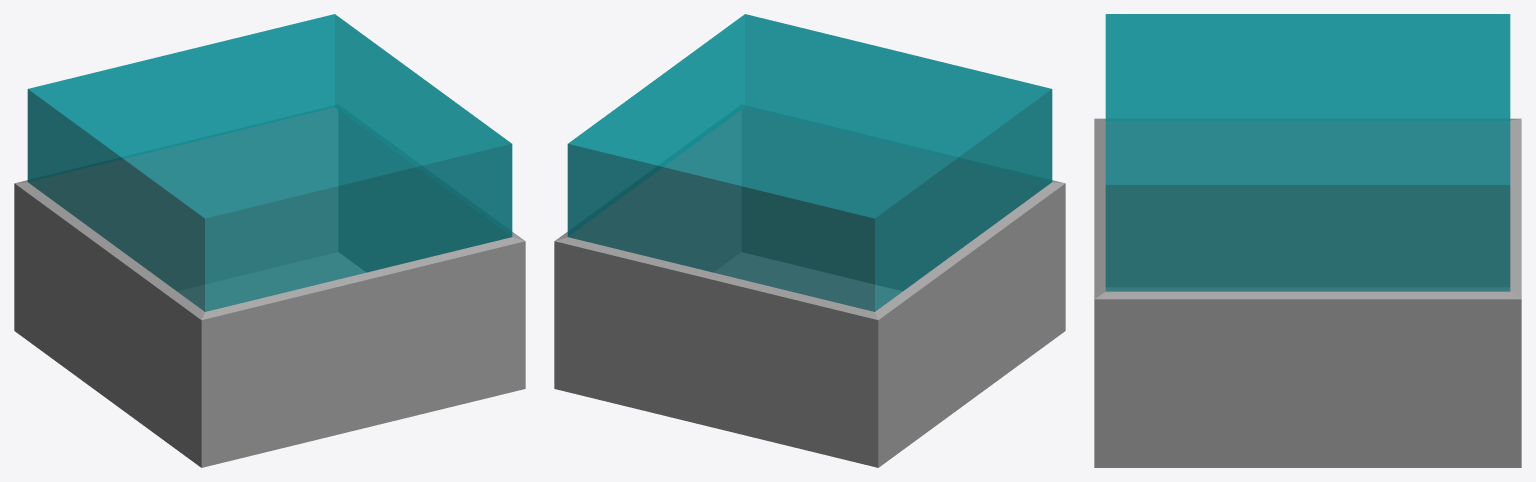
File: labdoos.fbx
3 renders of one model, left to right at view 1: azimuth 30°, elevation 25°; view 2: azimuth 150°, elevation 25°; view 3: azimuth 270°, elevation 25°, orthographic. The views are drawn at different scales.
Visible parts, largest first — view 1: pCube1; view 2: pCube1; view 3: pCube1.
Boxes of the visible parts, <box> form: pCube1: <box>14,14,525,467</box>; pCube1: <box>554,14,1065,467</box>; pCube1: <box>1094,14,1521,467</box>.
Size of the model in its own units: 4.55 by 3.27 by 4.55.
